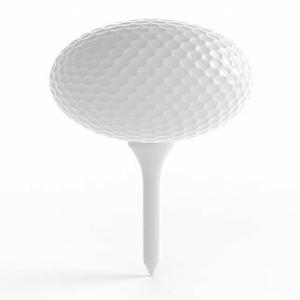Golf: (50, 13, 258, 147)
